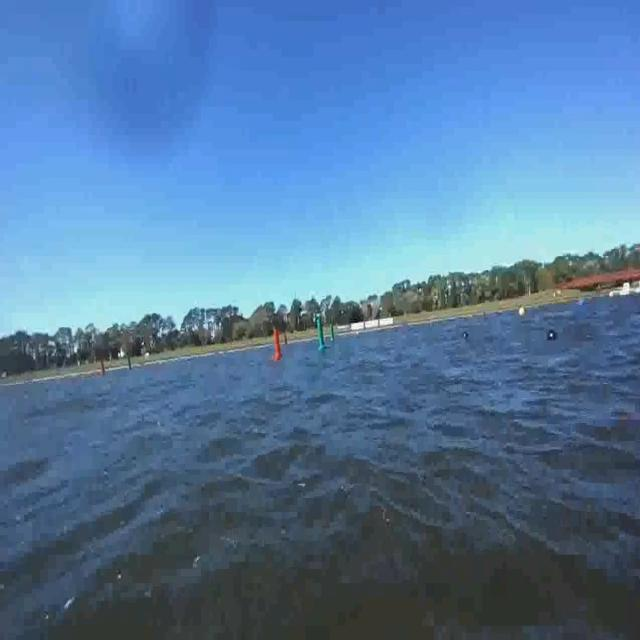black-buoy: (547, 327, 560, 342), (462, 332, 469, 340)
blue-buoy: (576, 296, 585, 307)
green-column-buoy: (315, 314, 328, 351), (330, 325, 335, 342), (129, 353, 134, 370)
red-column-buoy: (274, 329, 284, 361), (97, 355, 105, 377)
yellow-buoy: (516, 303, 524, 317)
